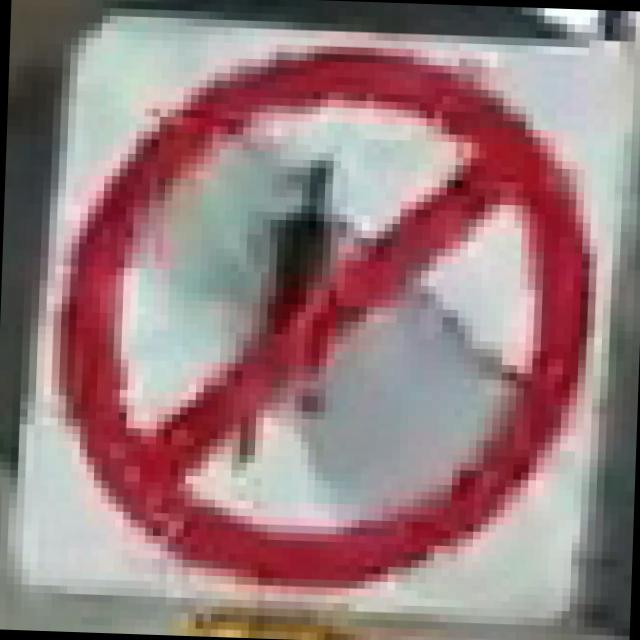nojaywalking_sign: (138, 146, 531, 510)
